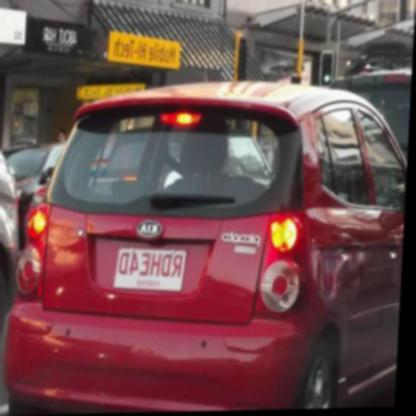License_Plate: (112, 246, 188, 294)
